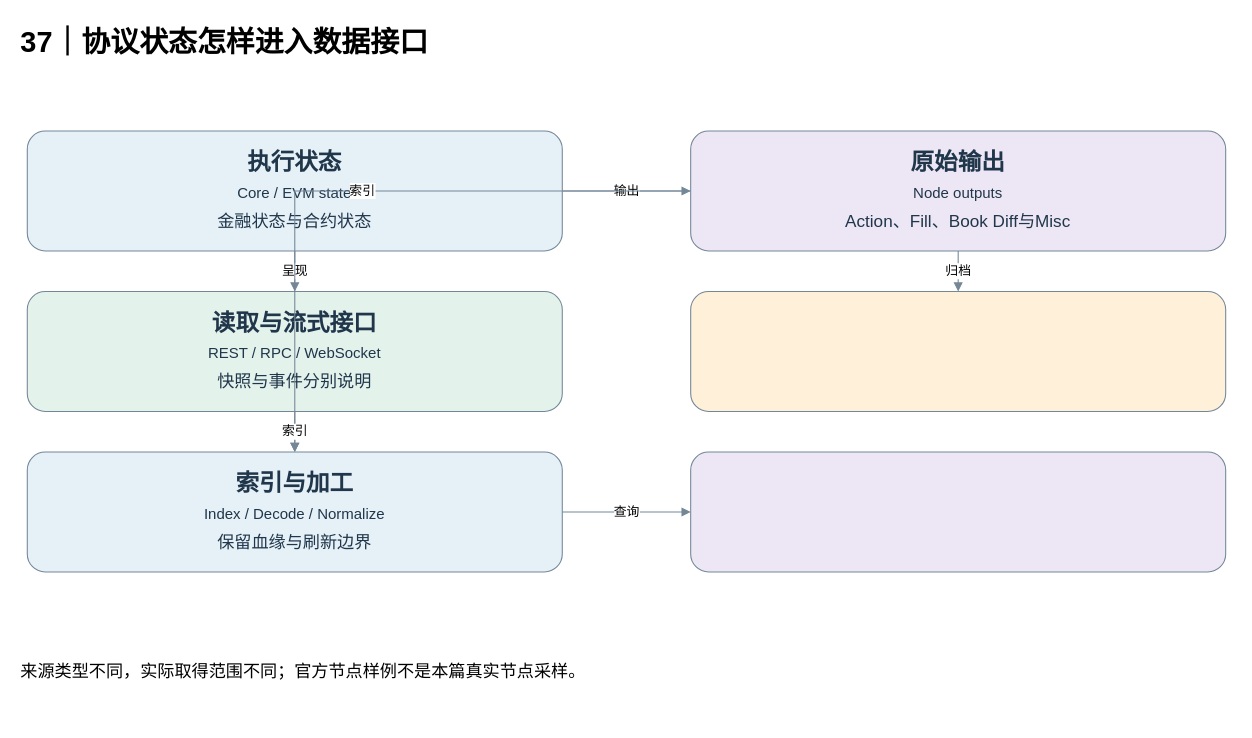
Some shapes in this 1252 by 738 pixel diagram are drawn without their labels. The box of each missing label's shape, as (x1, y1, x2, y2) in pixels:
分析入口 Dune / API / SQL 指标与研究解释: (690, 451, 1226, 572)
历史归档 Archives Requester-pays，本篇未下载: (690, 291, 1226, 411)
